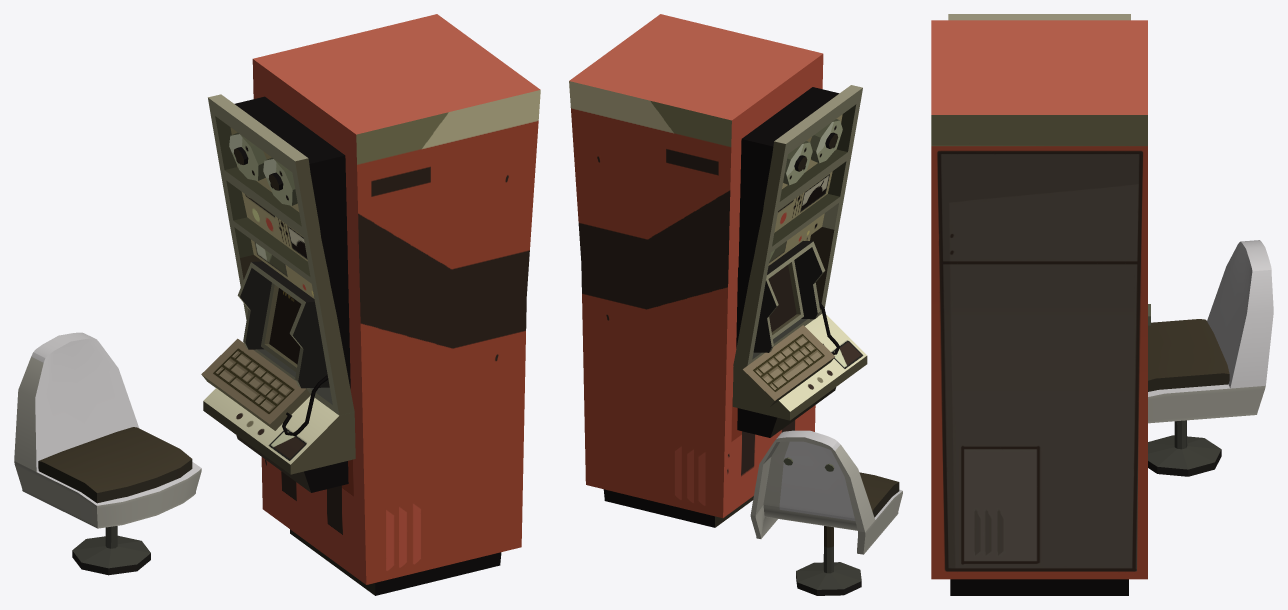
File: mainframe.obj
The picture shows the model from 3 angles, left to right: view 1: azimuth 30°, elevation 25°; view 2: azimuth 150°, elevation 25°; view 3: azimuth 270°, elevation 25°; orthographic projection. The views are drawn at different scales.
Visible parts, largest first — view 1: main_box group10, group10 pCube2, group10 group12 pCube9, group10 group12 pCube10, group10 pCube3, group10 pCube6, group10 pCube5, group10 pCylinder1 group12, group10 pCube4, group10 pCube1, group10 pCube8, group10 pasted__pasted__pasted__pCylinder1 pasted__pasted__group (+1 smaller); view 2: main_box group10, group10 pCube2, group10 group12 pCube9, group10 pCube3, group10 pCube6, group10 pCube5, group10 pCylinder1 group12, group10 pCube4, group10 pCube1, group10 pCube8, group10 group12 pCube10, group10 pasted__pasted__pCylinder1 pasted__group3 group4 (+1 smaller); view 3: main_box group10, group10 group12 pCube9, group10 group12 pCube10, group10 pCube1, group10 pCylinder1 group12, group10 pCube2.
Part boxes in pixels (<box>): main_box group10: <box>252,14,540,584</box>; group10 pCube2: <box>208,94,354,415</box>; group10 group12 pCube9: <box>14,332,201,528</box>; group10 group12 pCube10: <box>38,427,192,503</box>; group10 pCube3: <box>203,388,355,474</box>; group10 pCube6: <box>201,338,310,430</box>; group10 pCube5: <box>237,261,329,388</box>; group10 pCylinder1 group12: <box>72,526,150,575</box>; group10 pCube4: <box>261,283,301,371</box>; group10 pCube1: <box>290,529,501,595</box>; group10 pCube8: <box>236,435,348,492</box>; group10 pasted__pasted__pasted__pCylinder1 pasted__pasted__group: <box>229,132,266,180</box>; main_box group10: <box>569,14,823,518</box>; group10 pCube2: <box>733,85,862,368</box>; group10 group12 pCube9: <box>750,430,902,554</box>; group10 pCube3: <box>732,314,867,420</box>; group10 pCube6: <box>737,325,835,407</box>; group10 pCube5: <box>753,241,825,352</box>; group10 pCylinder1 group12: <box>796,526,861,595</box>; group10 pCube4: <box>768,260,803,338</box>; group10 pCube1: <box>603,489,753,527</box>; group10 pCube8: <box>737,387,836,437</box>; group10 group12 pCube10: <box>859,472,899,517</box>; group10 pasted__pasted__pCylinder1 pasted__group3 group4: <box>810,119,842,163</box>; main_box group10: <box>931,20,1147,579</box>; group10 group12 pCube9: <box>1148,240,1273,423</box>; group10 group12 pCube10: <box>1148,319,1229,391</box>; group10 pCube1: <box>950,579,1128,595</box>; group10 pCylinder1 group12: <box>1148,420,1221,476</box>; group10 pCube2: <box>948,14,1130,20</box>.
Bounding box in the file's own units: 21.86 × 26.47 × 16.34.
Materials: 28 (7 with a texture image).
